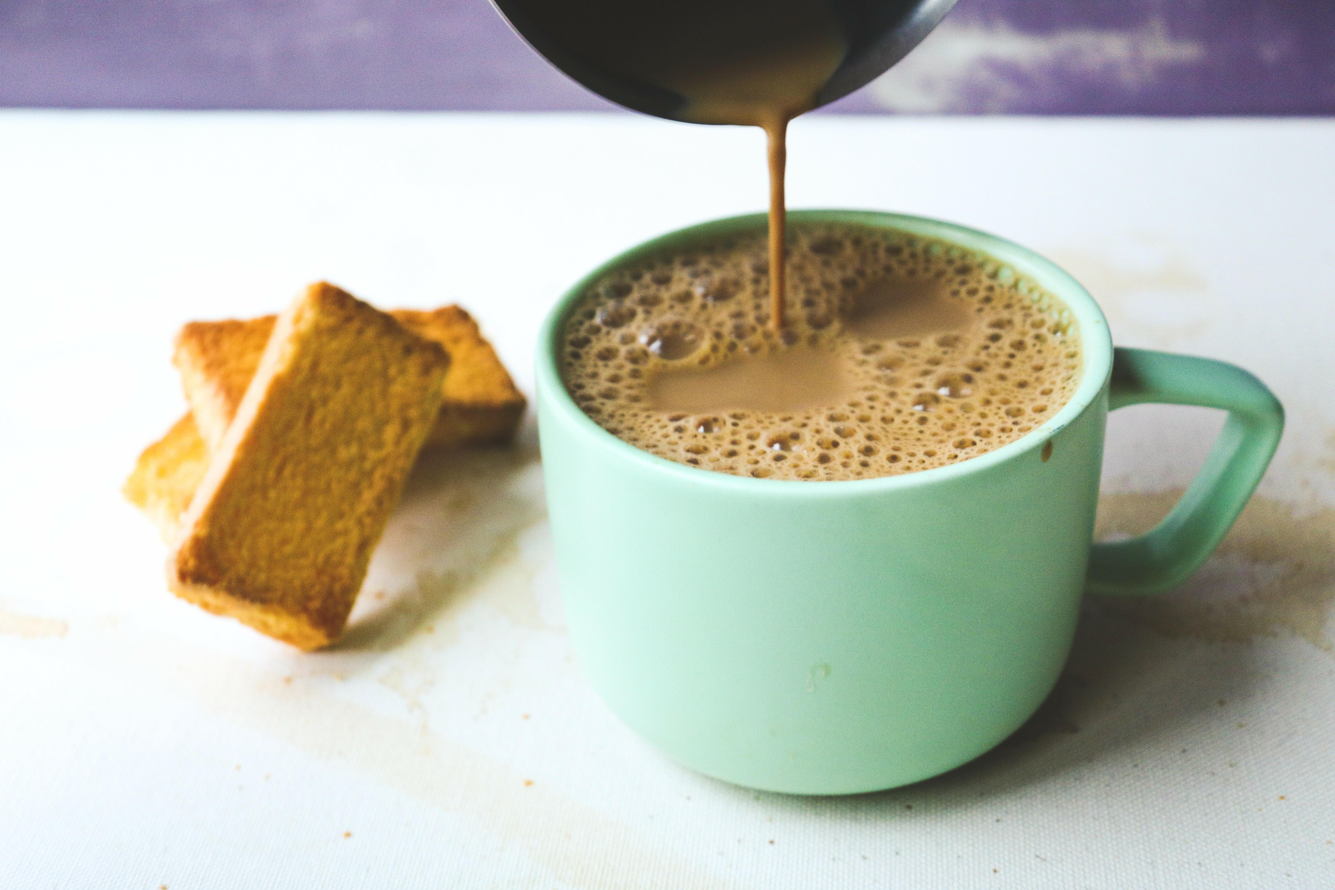Chai: (561, 216, 1079, 477), (675, 26, 846, 340)
